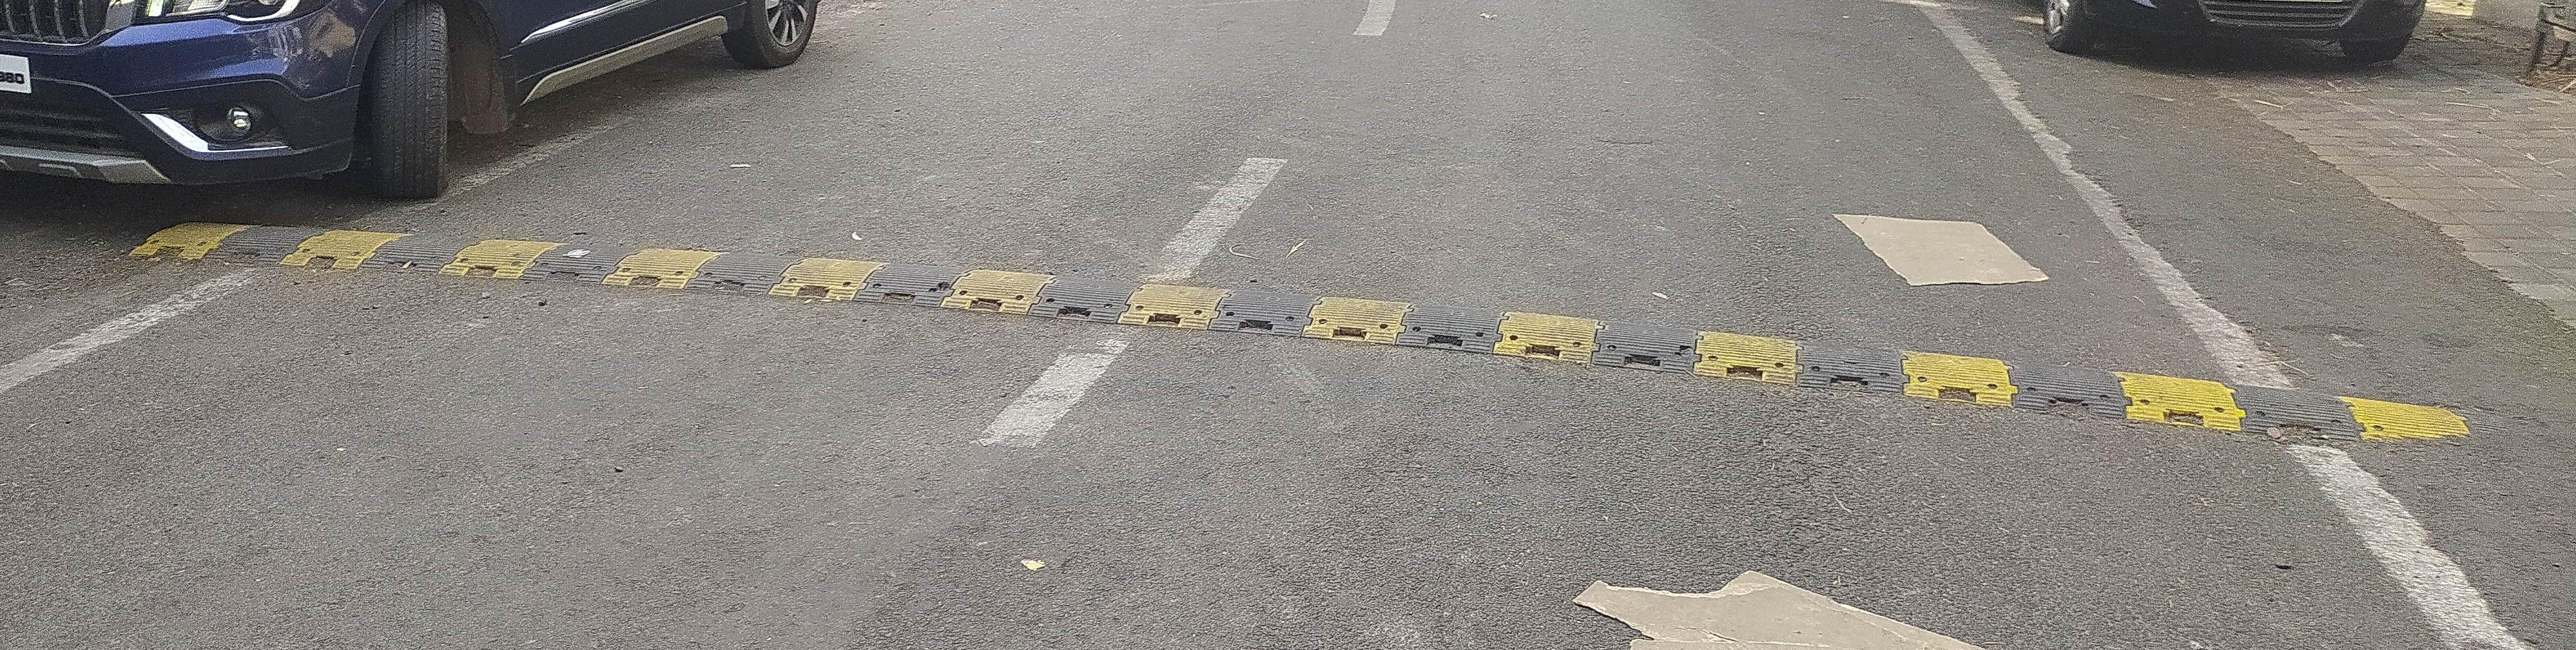speed-bump: (184, 216, 2546, 457)
